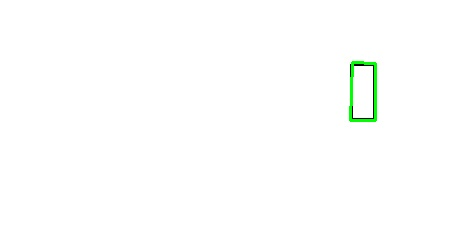line_segment: (350, 62, 377, 122)
